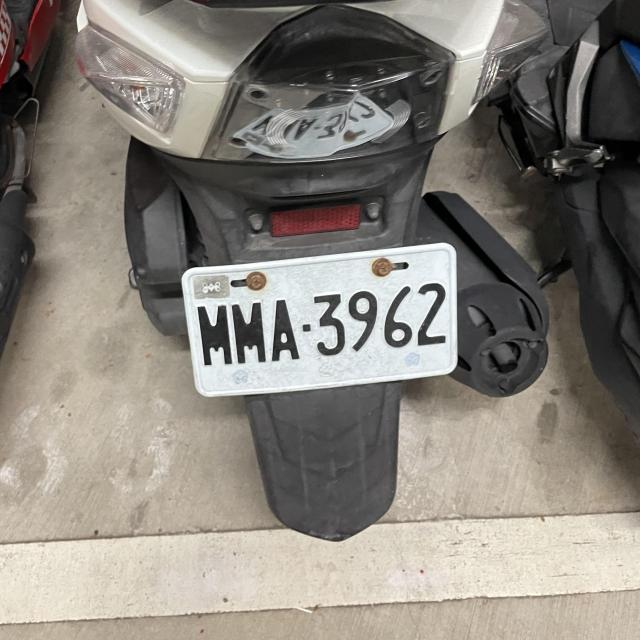W: (176, 245, 462, 400)
